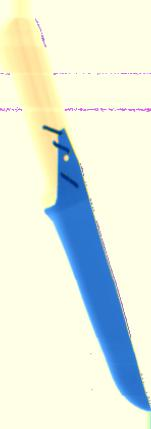Knife: (2, 18, 150, 411)
